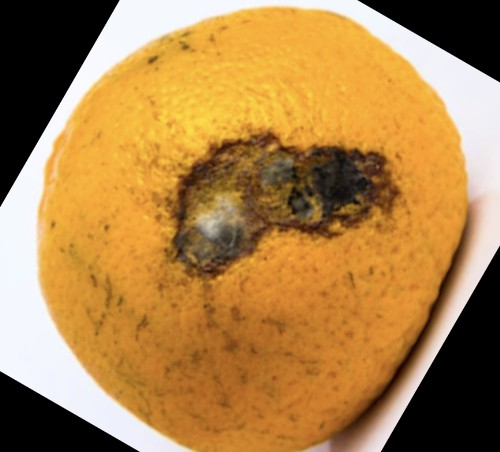rotten_orange: (35, 7, 468, 452)
